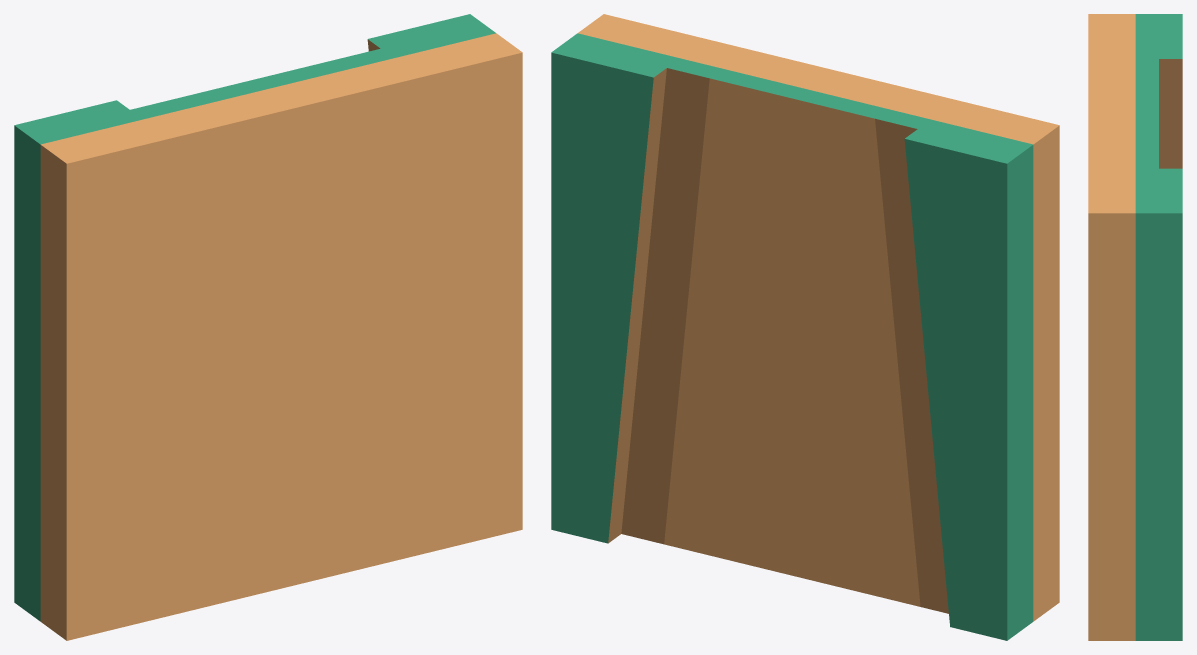
The model's file is tile_transition.obj.
The picture shows the model from 3 angles, left to right: view 1: azimuth 30°, elevation 25°; view 2: azimuth 150°, elevation 25°; view 3: azimuth 270°, elevation 25°; orthographic projection. The views are drawn at different scales.
Parts seen in each view (by area): view 1: tile_transition; view 2: tile_transition; view 3: tile_transition.
Part boxes in pixels (x1=…): tile_transition: x1=14, y1=14, x2=522, y2=640; tile_transition: x1=551, y1=14, x2=1059, y2=640; tile_transition: x1=1088, y1=14, x2=1182, y2=640.
Bounding box in the file's own units: 1 × 1 × 0.2.
